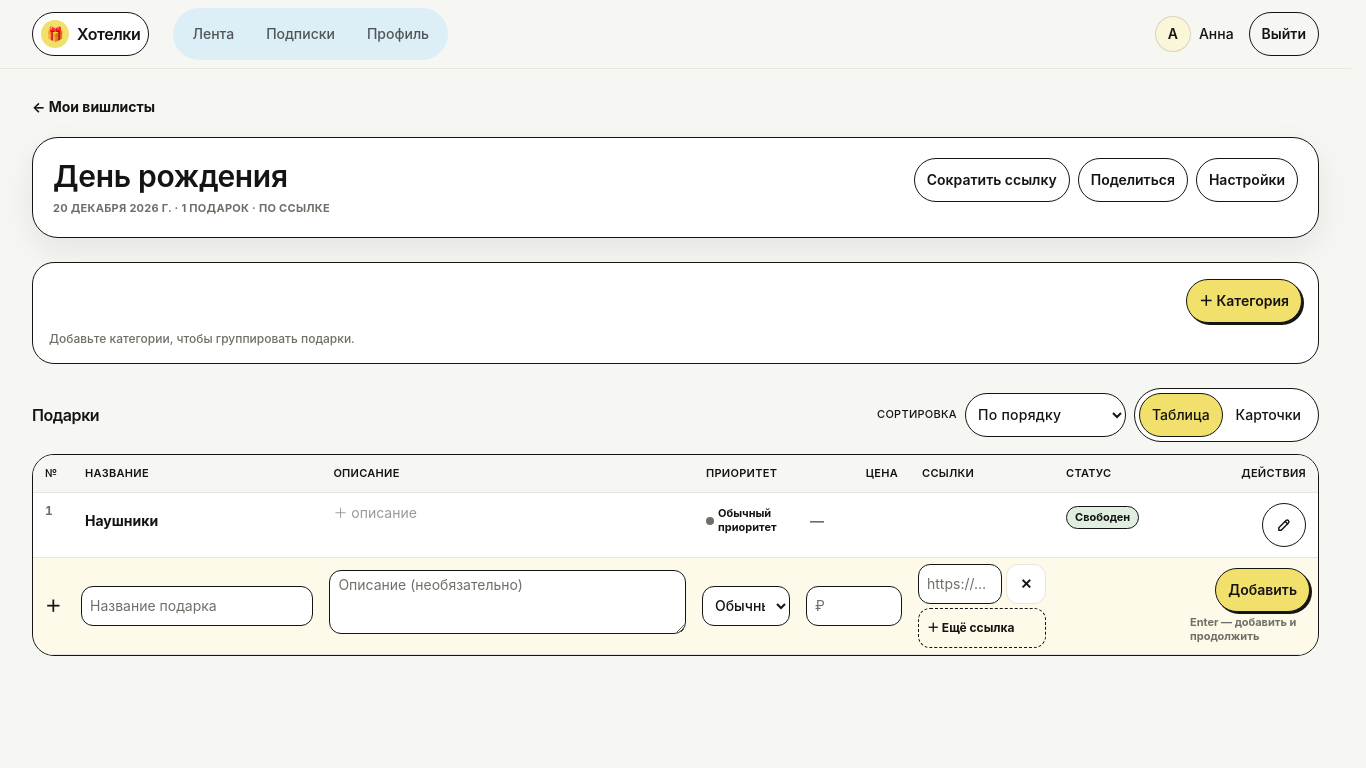
it: строка добавления в таблице › добавляет подарок со всеми полями одним POST
The width and height of the screenshot is (1366, 768).
Check: the text "Наушники" is shown, box 85,511 -> 158,531
Step 1. Type "Термокружка" into the field named "Название нового подарка" → (197, 606), box 81,586 -> 313,626
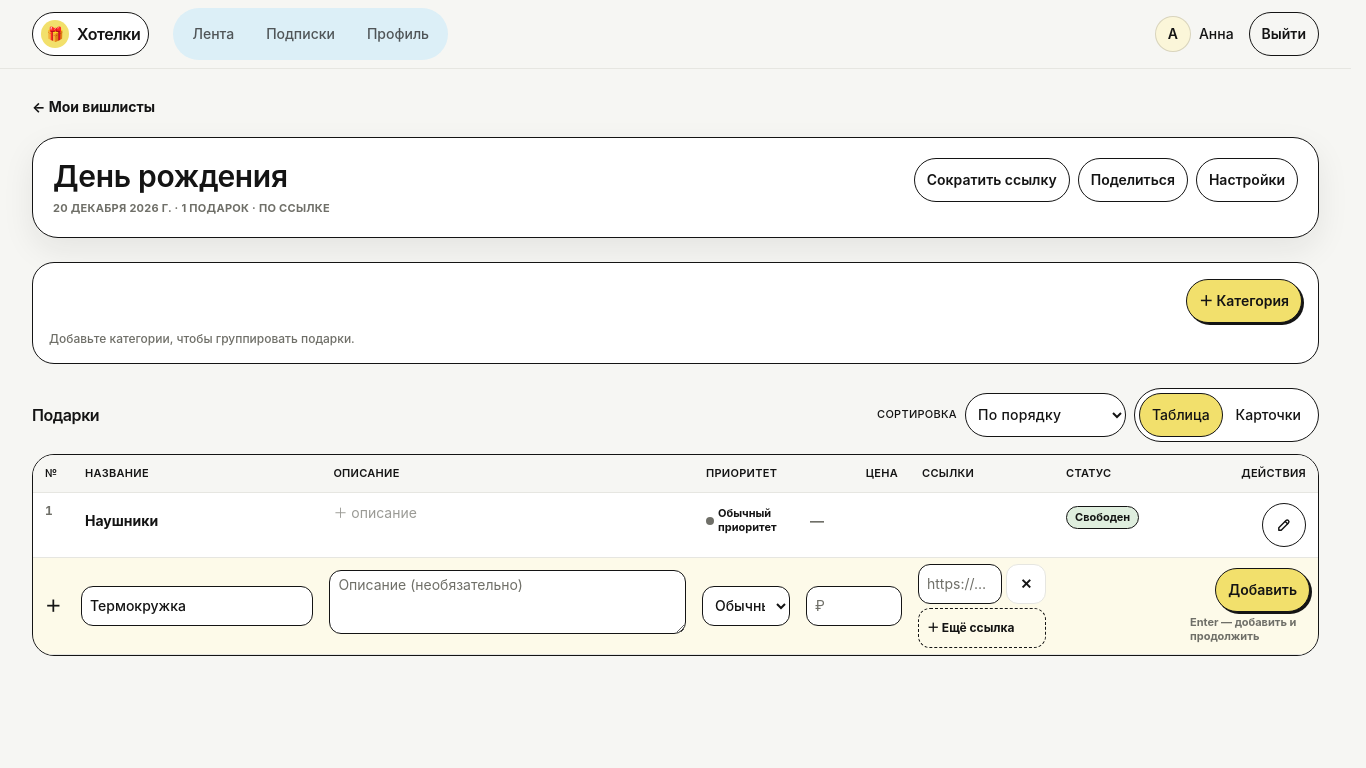
Step 2. Select "Очень важно" in the dropdown named "Приоритет нового подарка" → (746, 606), box 702,586 -> 790,626
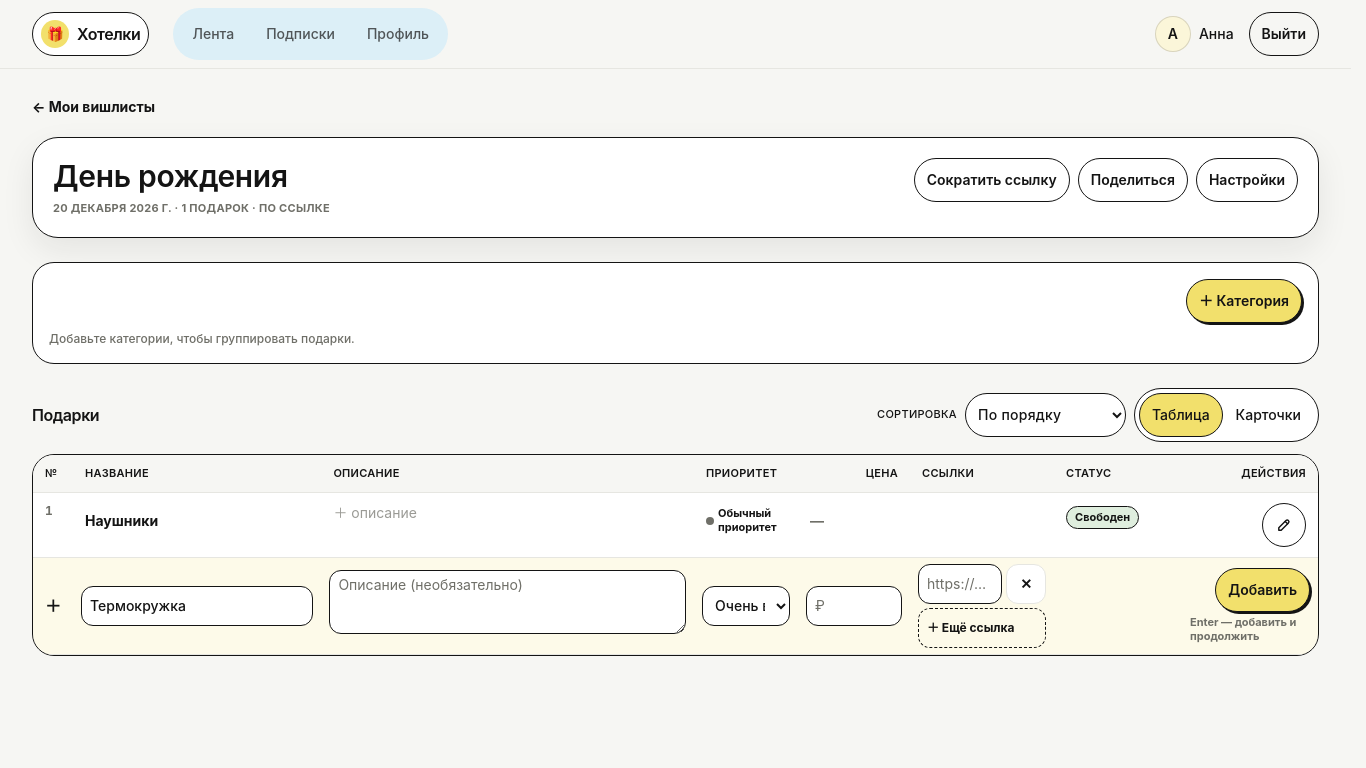
Step 3. Type "1500" into the field named "Цена нового подарка" → (854, 606), box 806,586 -> 902,626
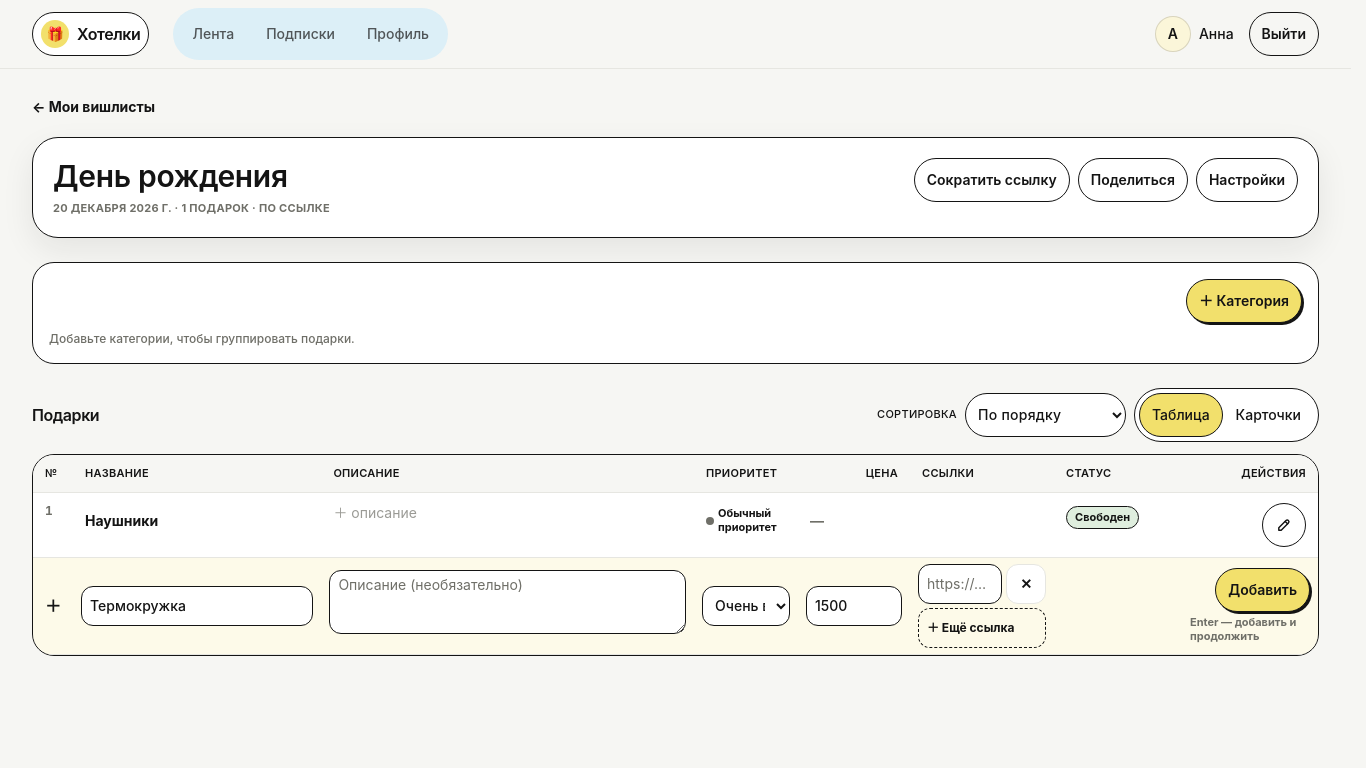
Step 4. Type "https://shop.example/cup" into the field named "Ссылка на товар 1" → (960, 584), box 918,564 -> 1002,604
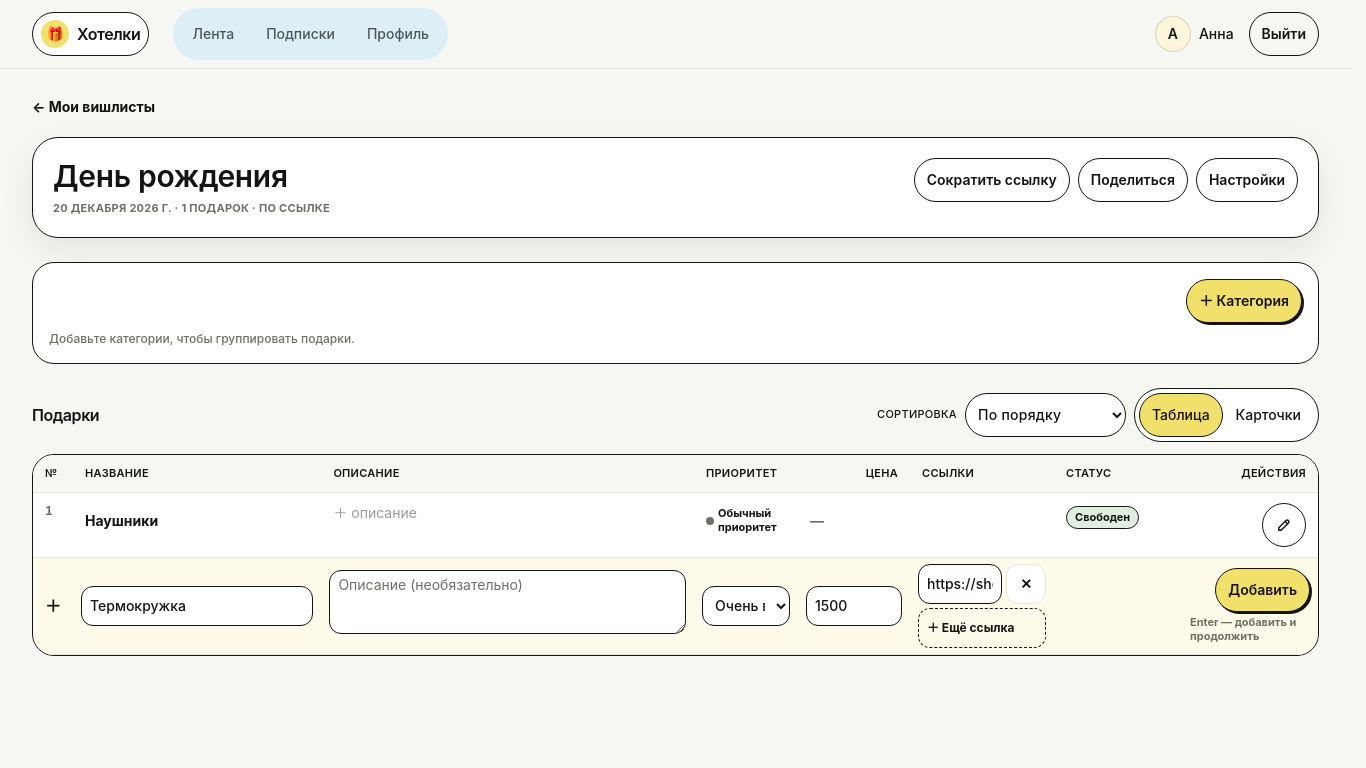
Step 5. Click the button "Добавить" → (1263, 590), box 1215,568 -> 1310,612
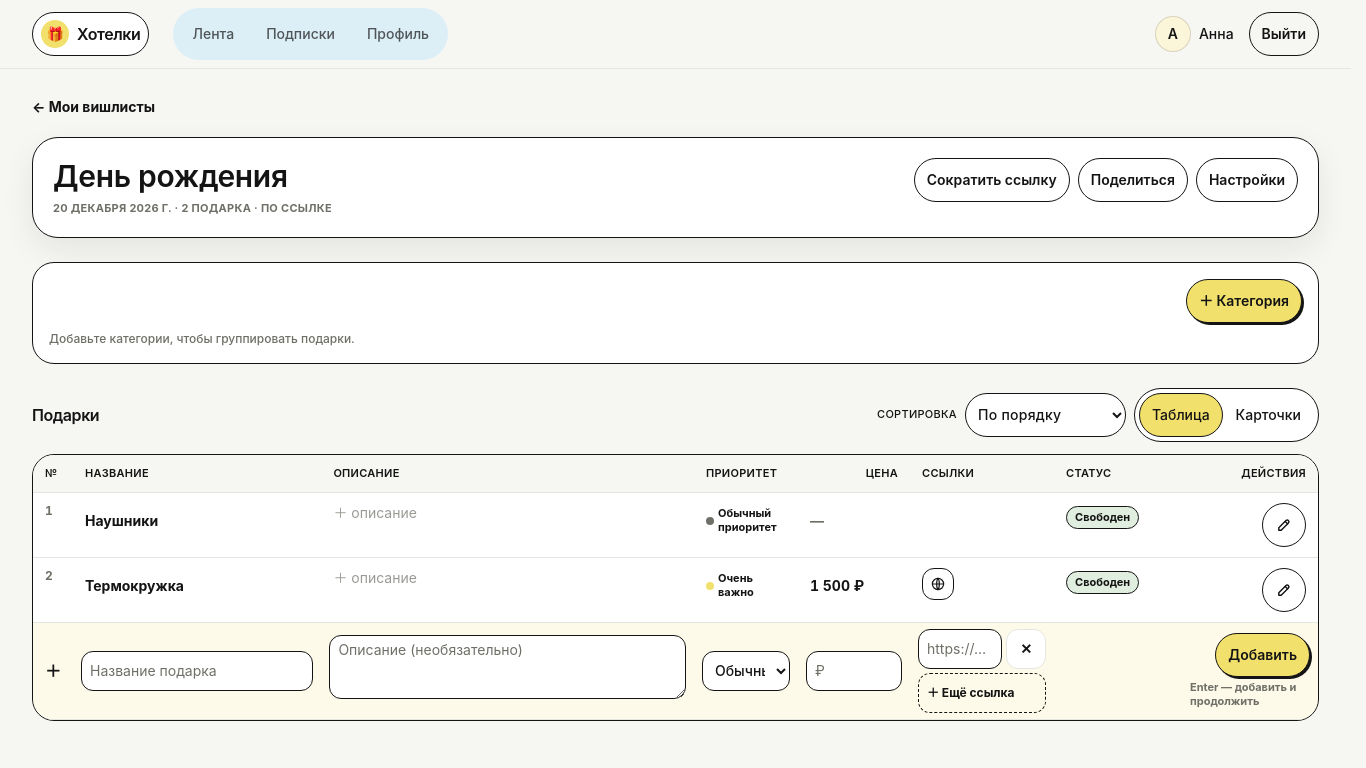
Check: the text "Термокружка" is shown, box 85,576 -> 184,596
